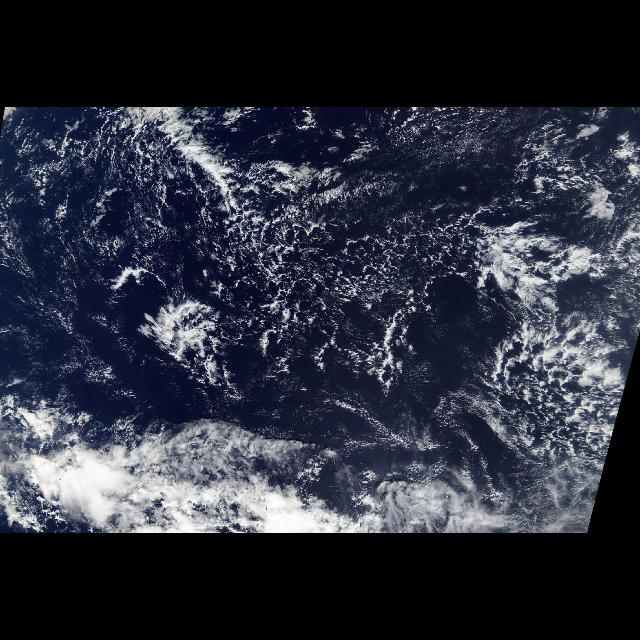Gravel: (240, 184, 428, 376)
